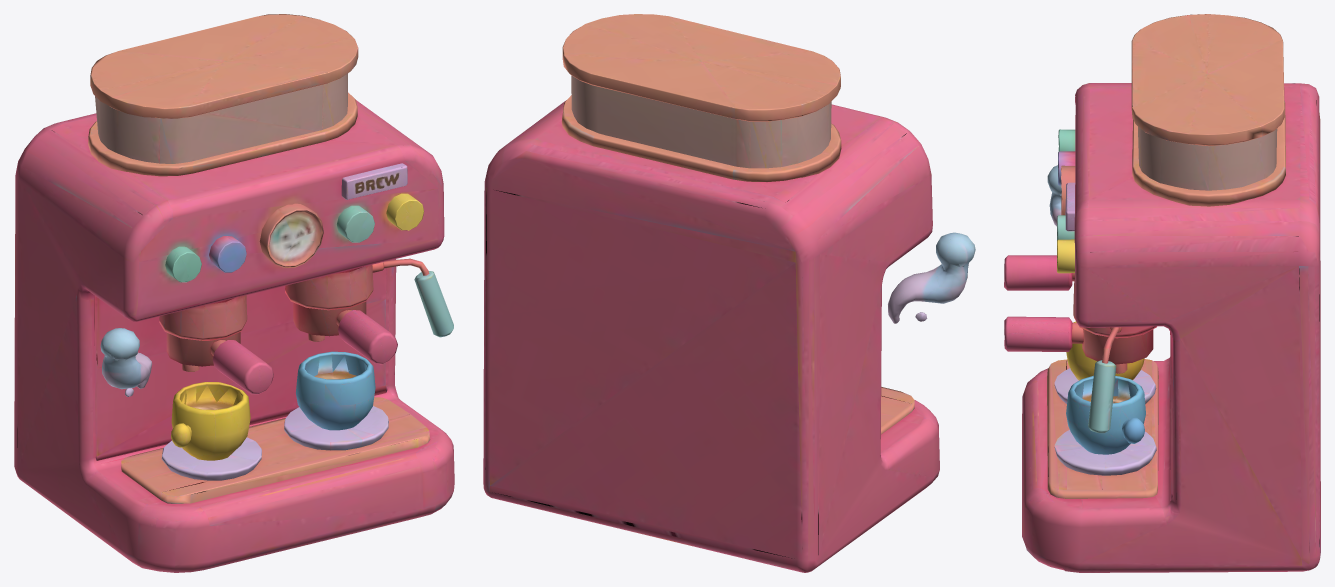
File: coffee-machine.glb
3 renders of one model, left to right at view 1: azimuth 30°, elevation 25°; view 2: azimuth 150°, elevation 25°; view 3: azimuth 270°, elevation 25°, orthographic. The views are drawn at different scales.
Parts seen in each view (by area): view 1: geometry_0; view 2: geometry_0; view 3: geometry_0.
Boxes of the visible parts, x1=… form: geometry_0: x1=14, y1=14, x2=454, y2=572; geometry_0: x1=483, y1=14, x2=975, y2=572; geometry_0: x1=1004, y1=14, x2=1320, y2=572.
Size of the model in its own units: 0.9161 by 1 by 0.6796.
1 material, 1 textured.
